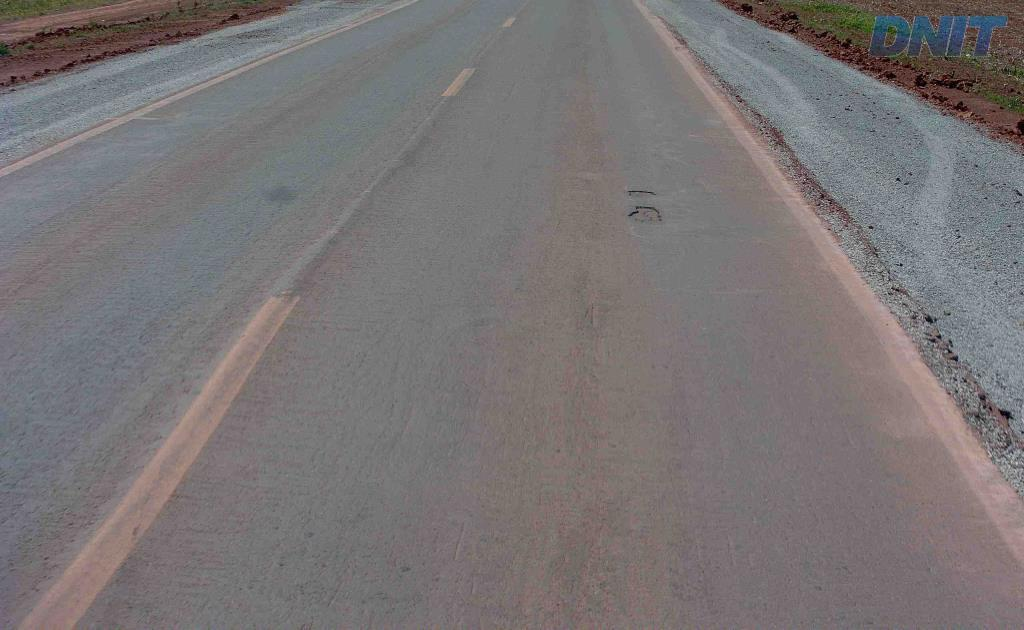pothole: (624, 204, 666, 227), (618, 187, 661, 201)
